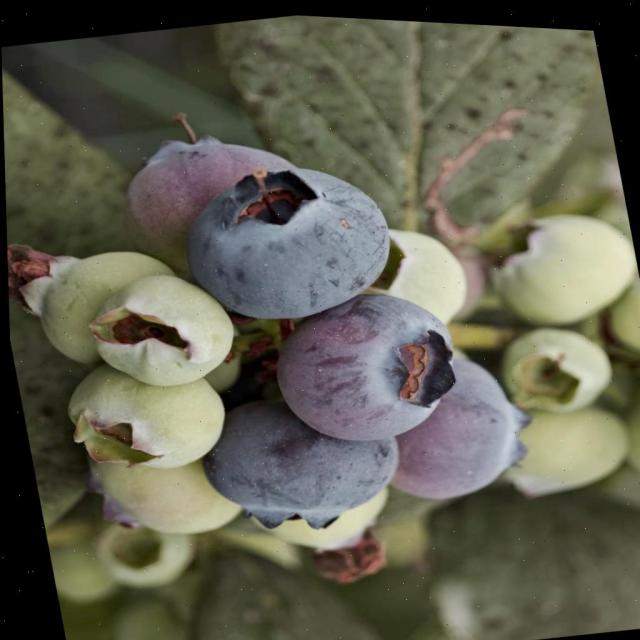RipeBlueBerry: (166, 142, 406, 337), (185, 368, 412, 546)
Semi-RipeBlueBerry: (254, 272, 472, 458)
